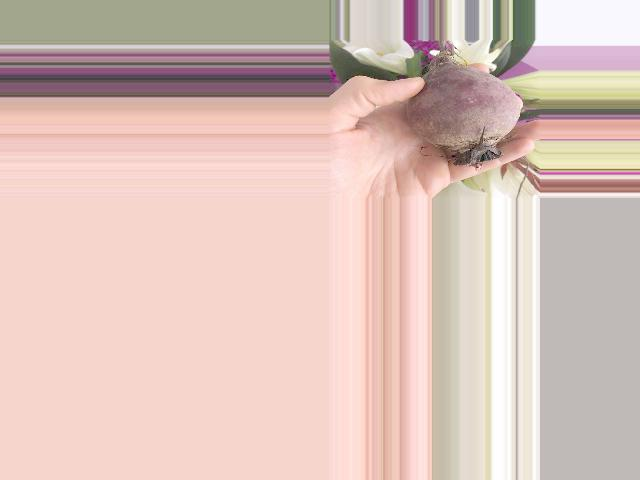beet: (407, 40, 521, 170)
